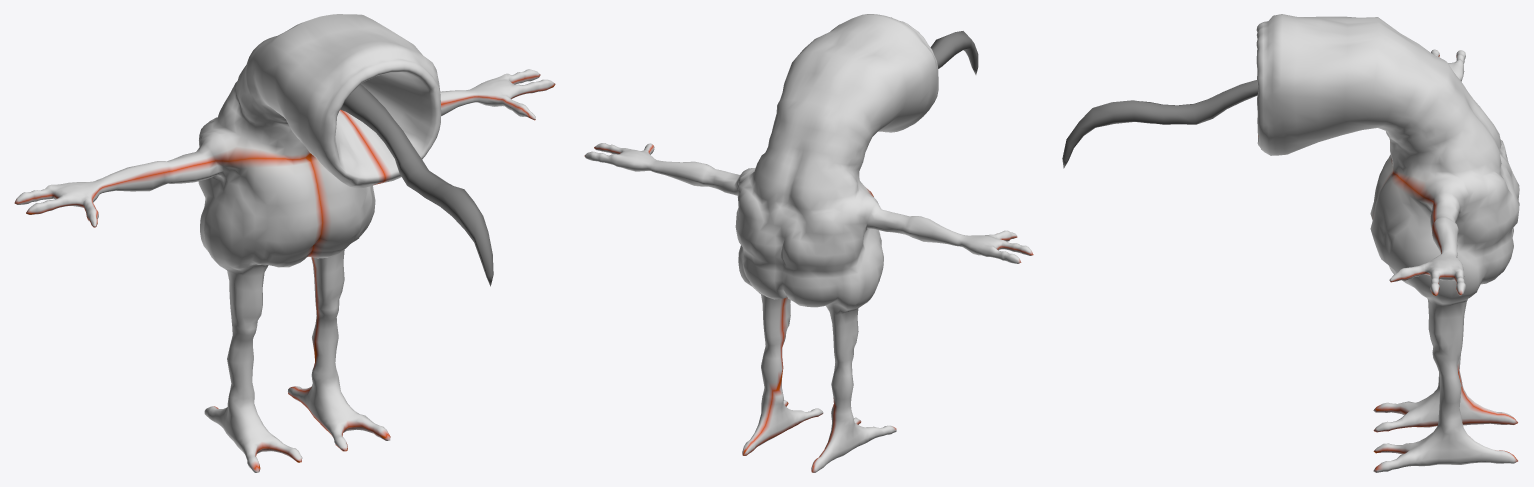
The model's file is pCube10_01_SeamsColor.fbx.
The picture shows the model from 3 angles, left to right: view 1: azimuth 30°, elevation 25°; view 2: azimuth 150°, elevation 25°; view 3: azimuth 270°, elevation 25°; orthographic projection. The views are drawn at different scales.
Visible parts, largest first — view 1: pCube10_01_SeamsColor, pCylinder10_01; view 2: pCube10_01_SeamsColor, pCylinder10_01; view 3: pCube10_01_SeamsColor, pCylinder10_01.
Part boxes in pixels (x1,y1,x2,y2): pCube10_01_SeamsColor: (14,14,555,472); pCylinder10_01: (340,84,493,286); pCube10_01_SeamsColor: (584,14,1033,472); pCylinder10_01: (930,31,978,74); pCube10_01_SeamsColor: (1256,14,1519,472); pCylinder10_01: (1062,80,1258,168).
Size of the model in its own units: 23.39 by 18.94 by 18.55.
